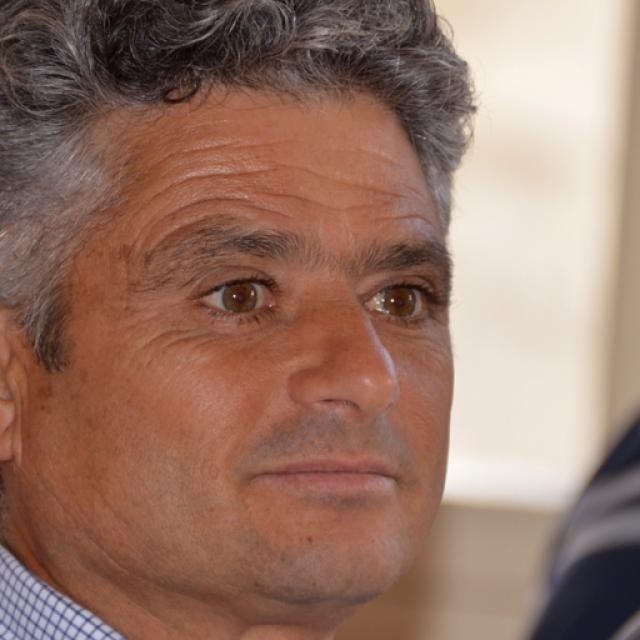neutral: (72, 79, 458, 602)
